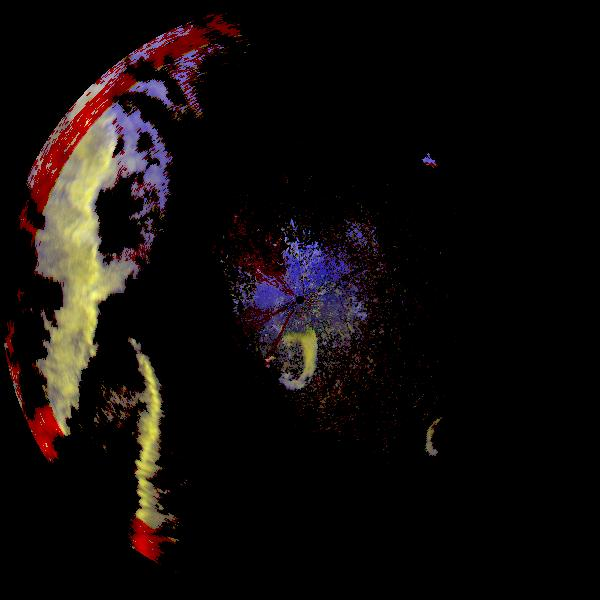roost: (368, 140, 494, 266), (254, 320, 338, 404), (417, 404, 492, 479)
